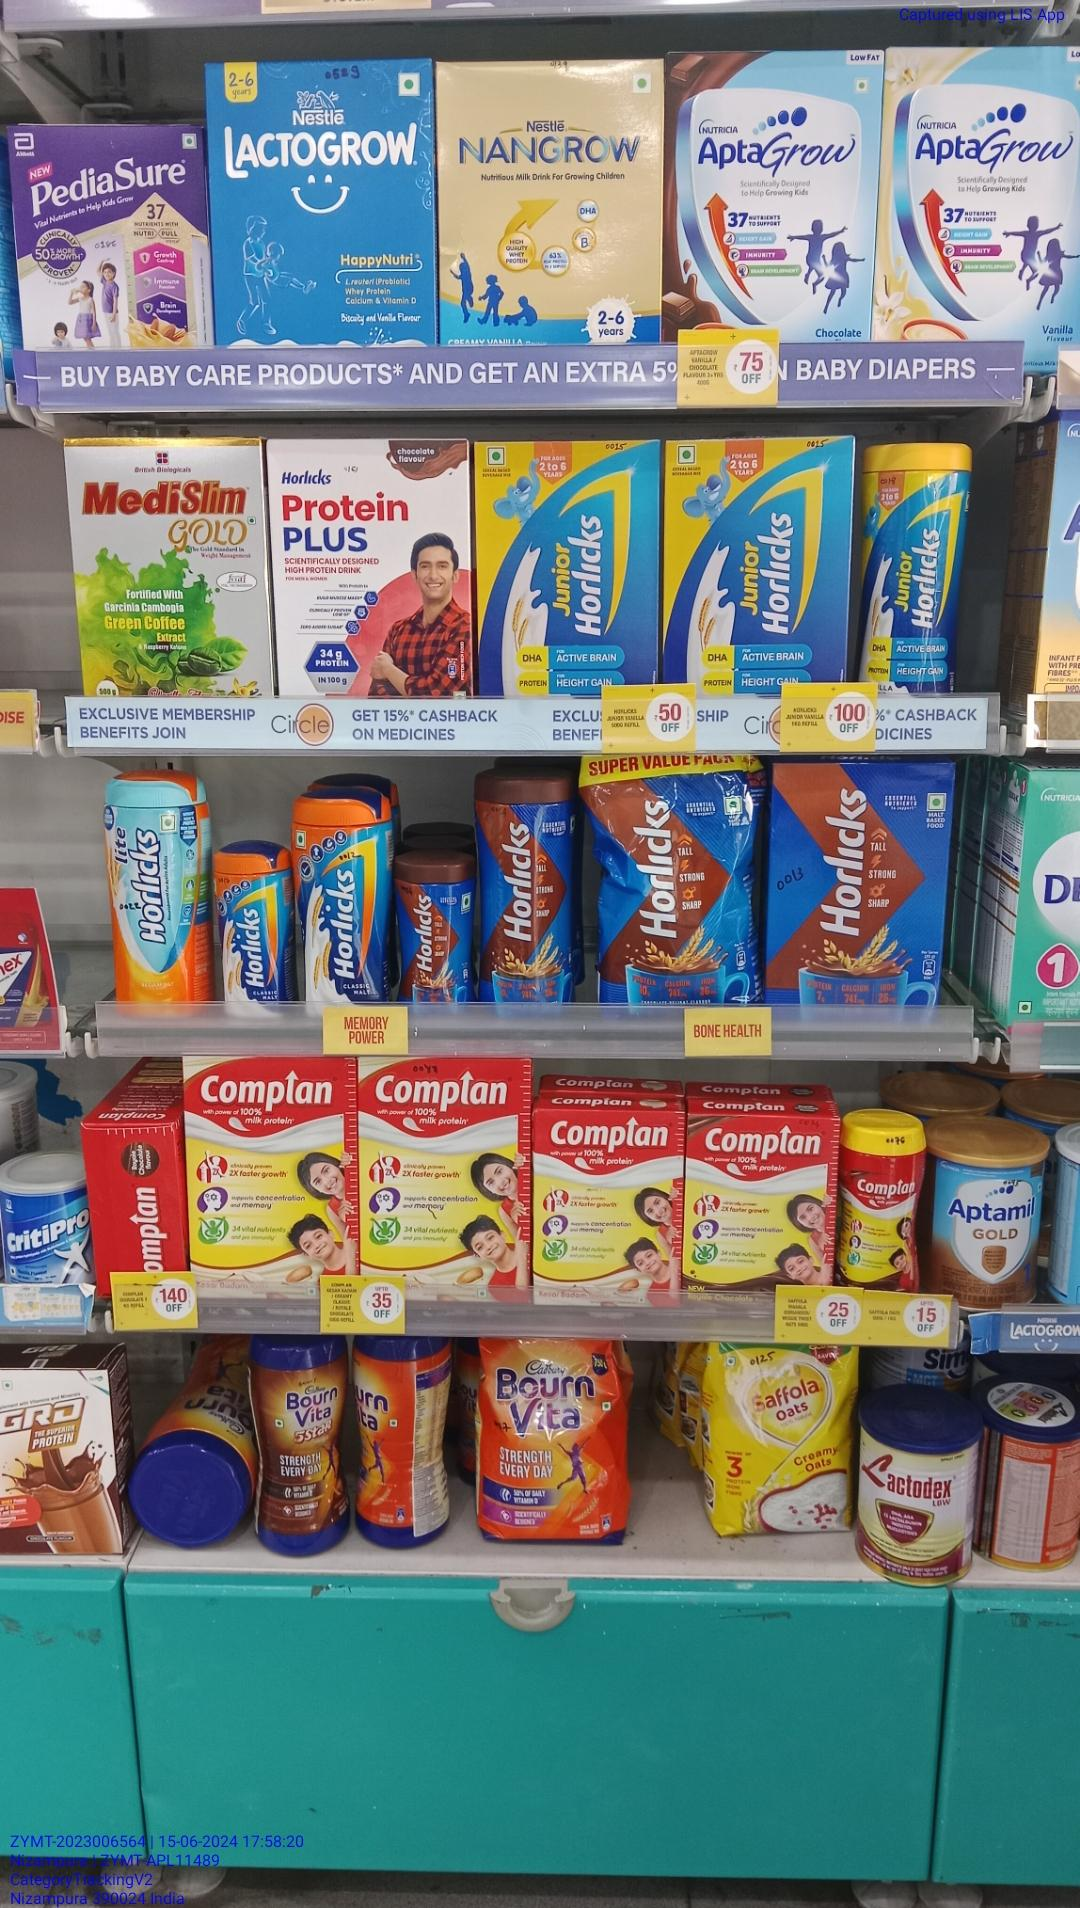BOURN_VITA_500_G_JAR: (350, 1334, 413, 1549)
BOURN_VITA_750_G_POUCH: (489, 1342, 625, 1548)
BOURN_VITA_FIVE_STAR_MAGIC_500_G_JAR: (249, 1339, 343, 1558)
COMPLAN_CHOCOLATE_200_GMS_JAR: (845, 1123, 923, 1289)
COMPLAN_KESAR_BADAM_200_GMS_PACK: (530, 1106, 679, 1321)
HORLICKS_JUNIOR_VANILLA_500_GM_JAR: (865, 443, 963, 693)
HORLICKS_LITE_REGULAR_MALT_500_GM_JAR: (100, 772, 204, 1020)
HORLICK_CHOCOLATE_200_G_JAR: (398, 858, 472, 1020)
HORLICK_CHOCOLATE_500_G_JAR: (480, 774, 575, 1022)
HORLICK_CHOCOLATE_500_G_PACK: (769, 768, 946, 1030)
HORLICK_CHOCOLATE_750_G_POUCH: (592, 744, 760, 1009)
HORLICK_CLASSIC_MALT_200_G_JAR: (212, 847, 294, 1016)
HORLICK_CLASSIC_MALT_500_G_JAR: (295, 786, 387, 1018)
